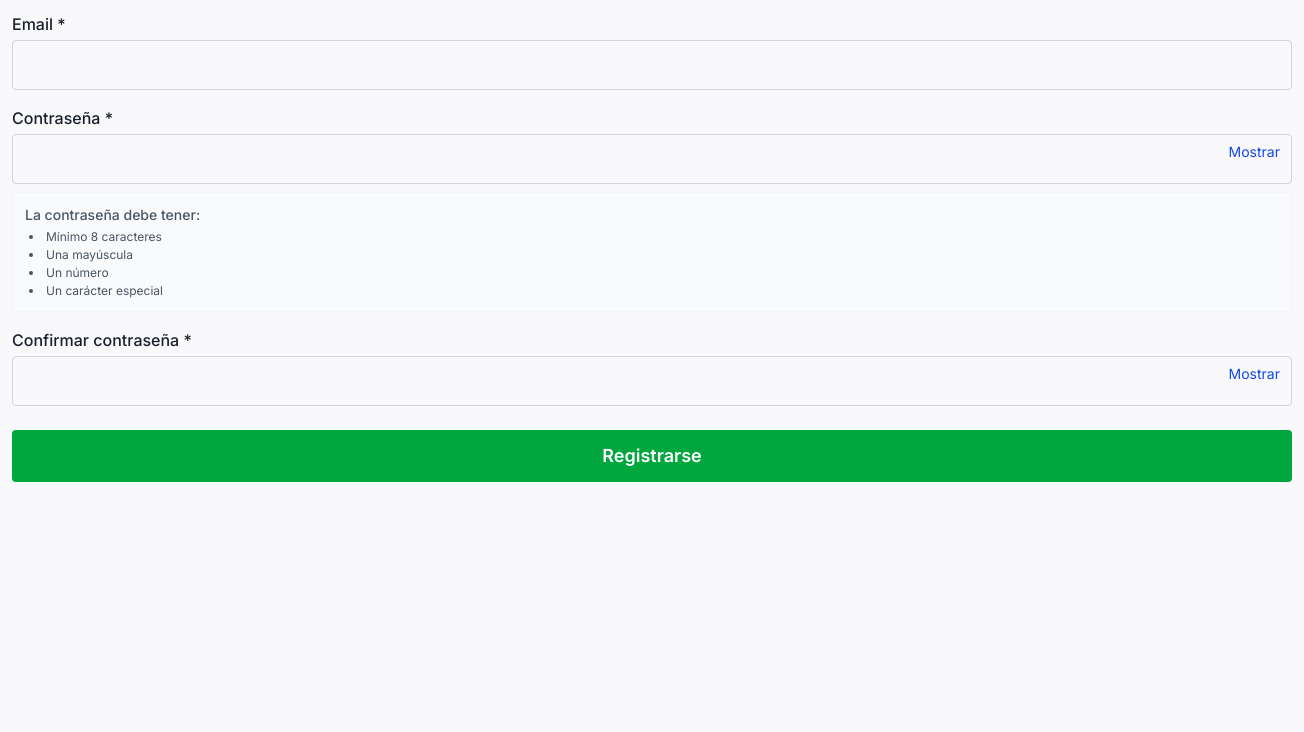
Authentication Forms Integration › SignUpForm › shows error if passwords do not match
Type "Password123!" into the password field labelled "Contraseña *". click: [652, 159]
box: [12,134,1292,184]
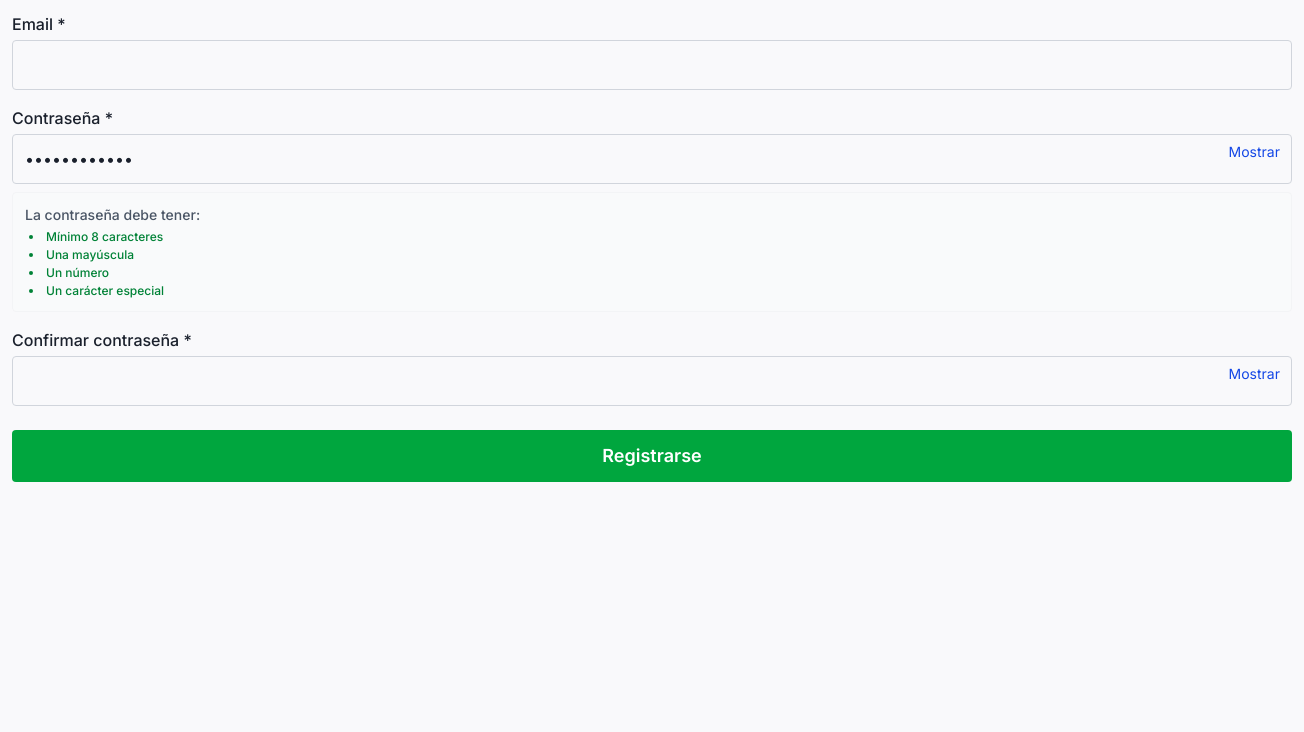
Type "mismatch" into the password field labelled "Confirmar contraseña *". click: [652, 381]
box: [12,356,1292,406]
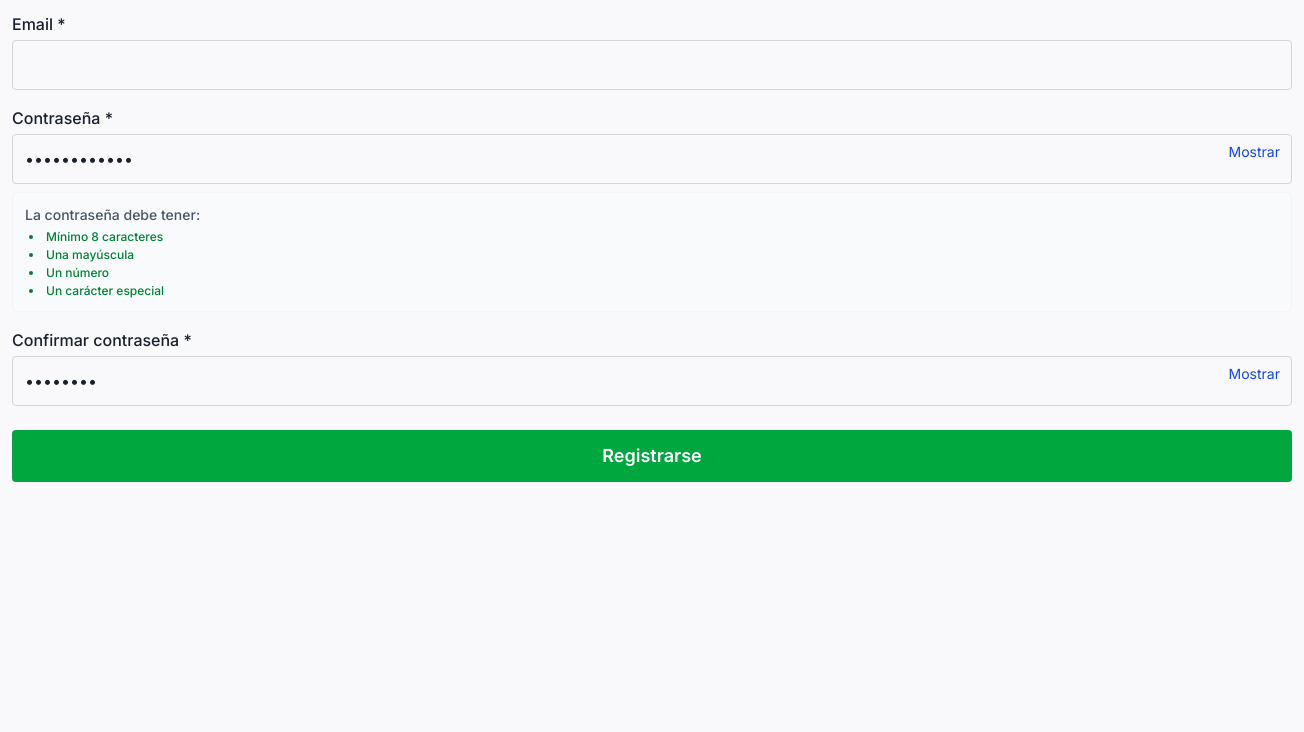
Leave the password field labelled "Confirmar contraseña *", box [12,356,1292,406]
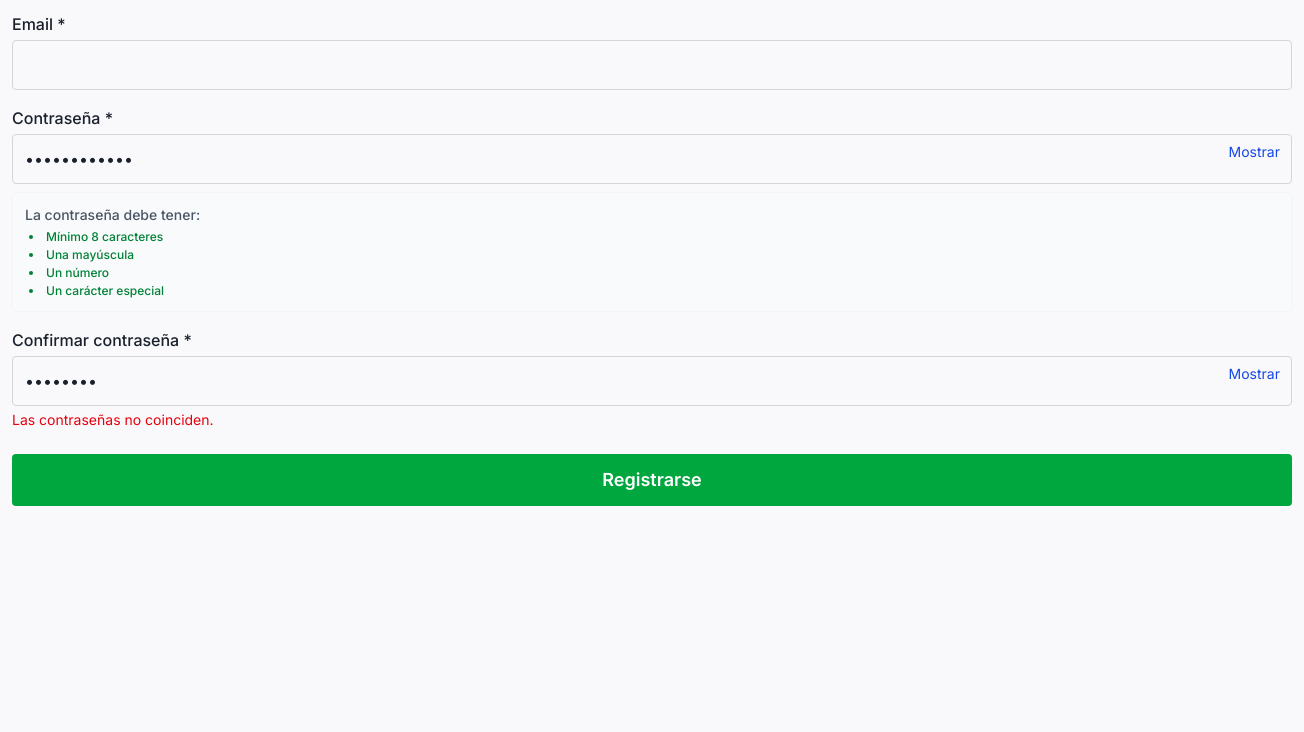
Result: the text "Las contraseñas no coinciden." is shown at [12,411,214,428]
